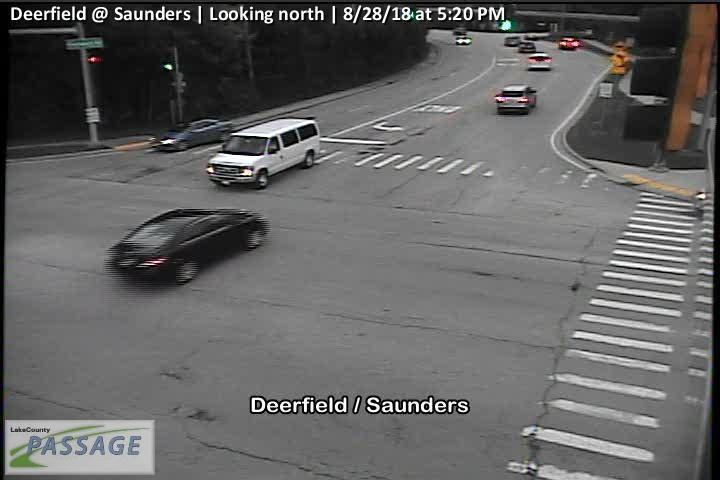SUV: (205, 116, 322, 190), (494, 85, 537, 116), (527, 50, 552, 71)
Sedan: (107, 208, 270, 286), (148, 118, 232, 153), (558, 37, 578, 51), (519, 41, 536, 52), (504, 36, 520, 46), (455, 35, 472, 44)
